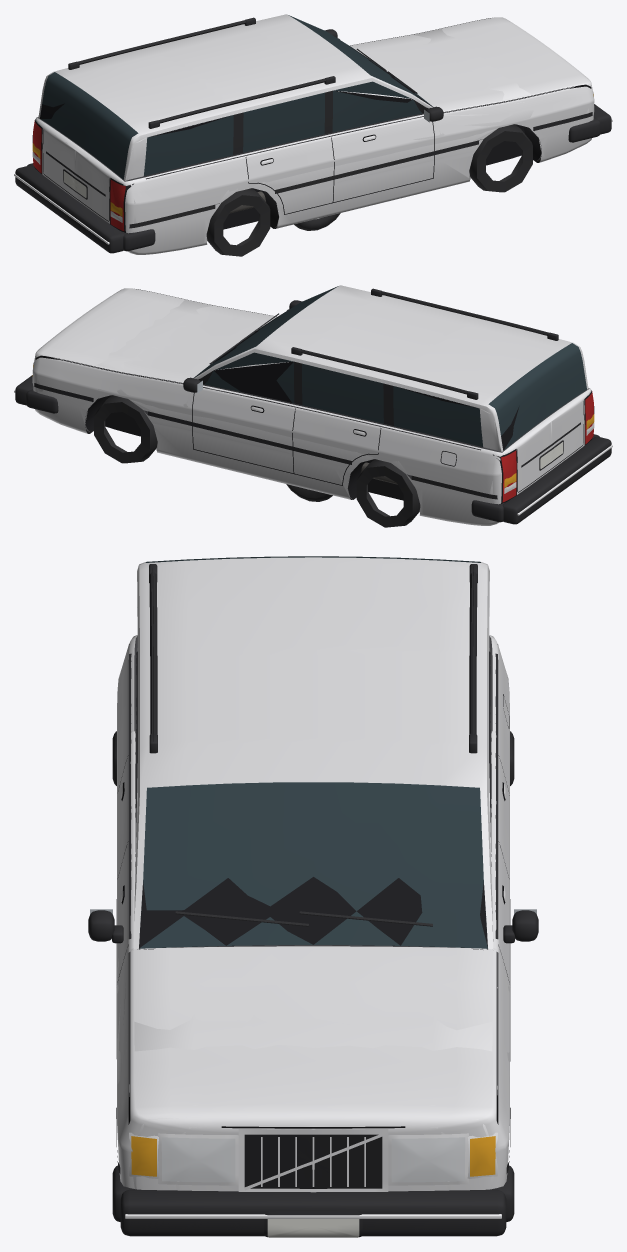
Rendered from wagon240.glb.
3 renders of one model, top to bottom at view 1: azimuth 30°, elevation 25°; view 2: azimuth 150°, elevation 25°; view 3: azimuth 270°, elevation 25°, orthographic. The views are drawn at different scales.
Visible parts, largest first — view 1: wagon240, wagon240_lo, wagon240_wf; view 2: wagon240, wagon240_lo, wagon240_wf; view 3: wagon240, wagon240_lo.
Boxes of the visible parts, x1,y1,x2,y2 form: wagon240: [14, 14, 612, 254]; wagon240_lo: [16, 18, 609, 256]; wagon240_wf: [294, 213, 340, 230]; wagon240: [14, 285, 612, 525]; wagon240_lo: [18, 289, 610, 527]; wagon240_wf: [286, 484, 332, 501]; wagon240: [88, 556, 538, 1237]; wagon240_lo: [99, 567, 528, 1230].
Size of the model in its own units: 5.08 by 1.78 by 1.96.
